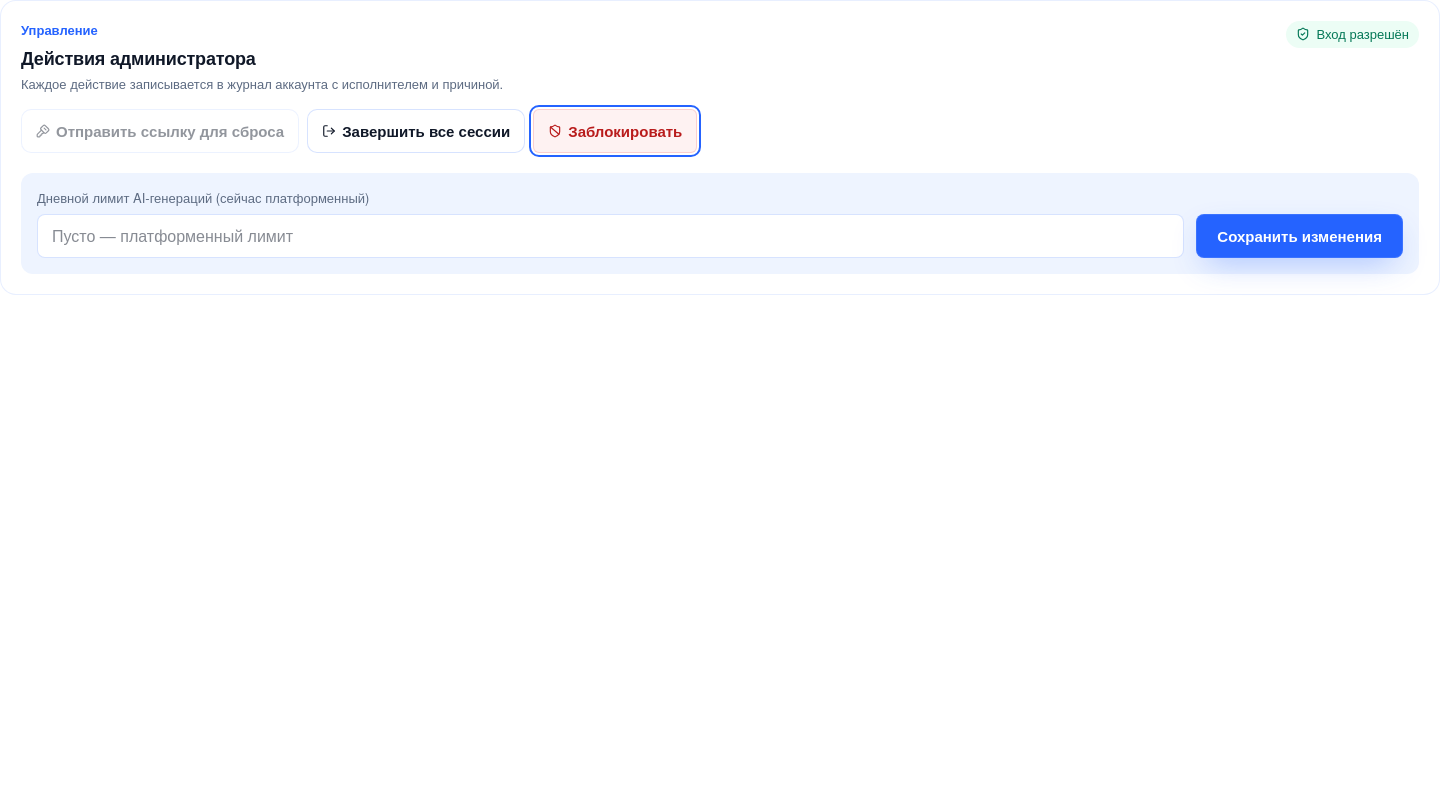
Test: contains block-dialog keyboard focus and lets Escape cancel before a destructive action
The image size is (1440, 810).
Click the button "Заблокировать".
click(615, 131)  # box [533,109,697,153]
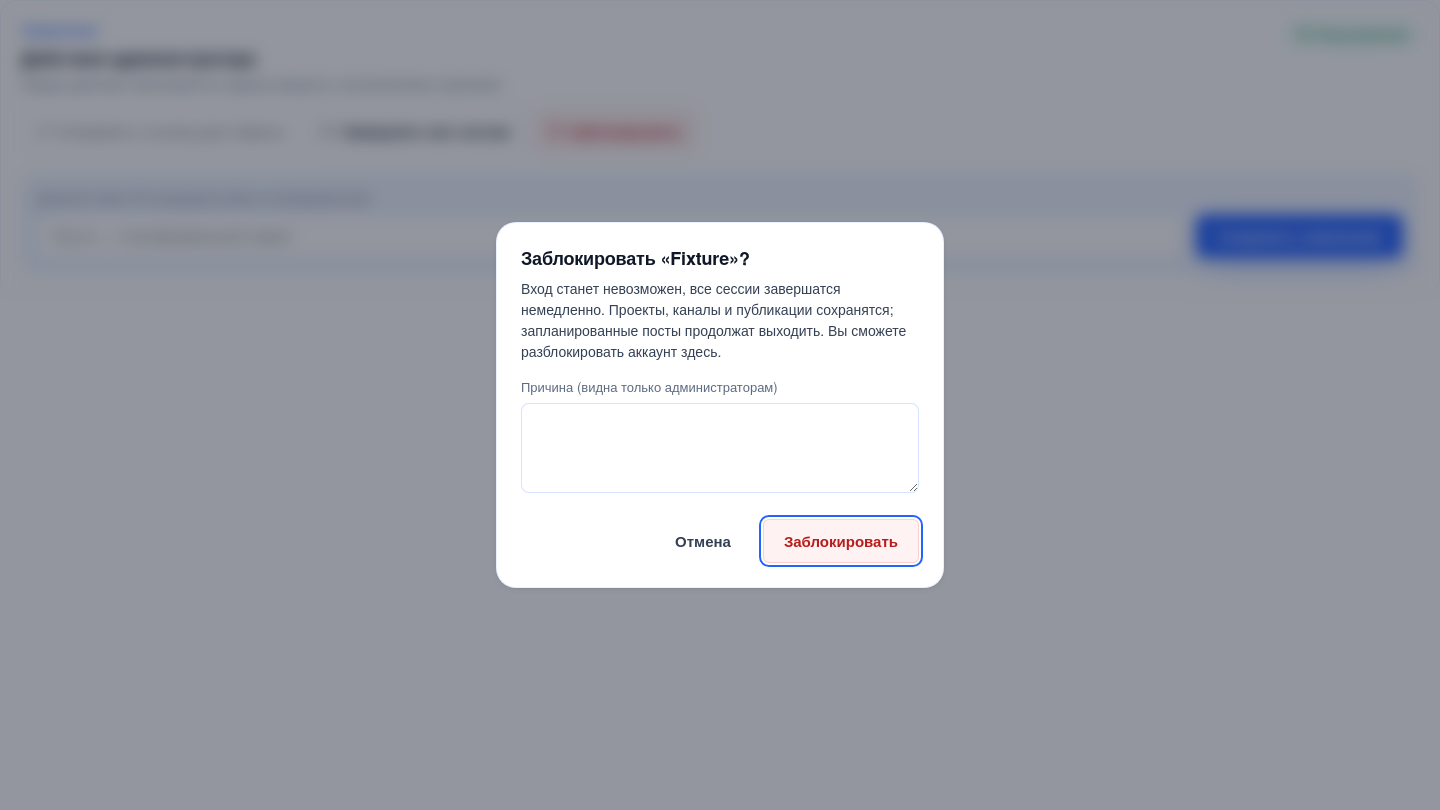
Press Tab in the button "Заблокировать", box [763,519,919,563]
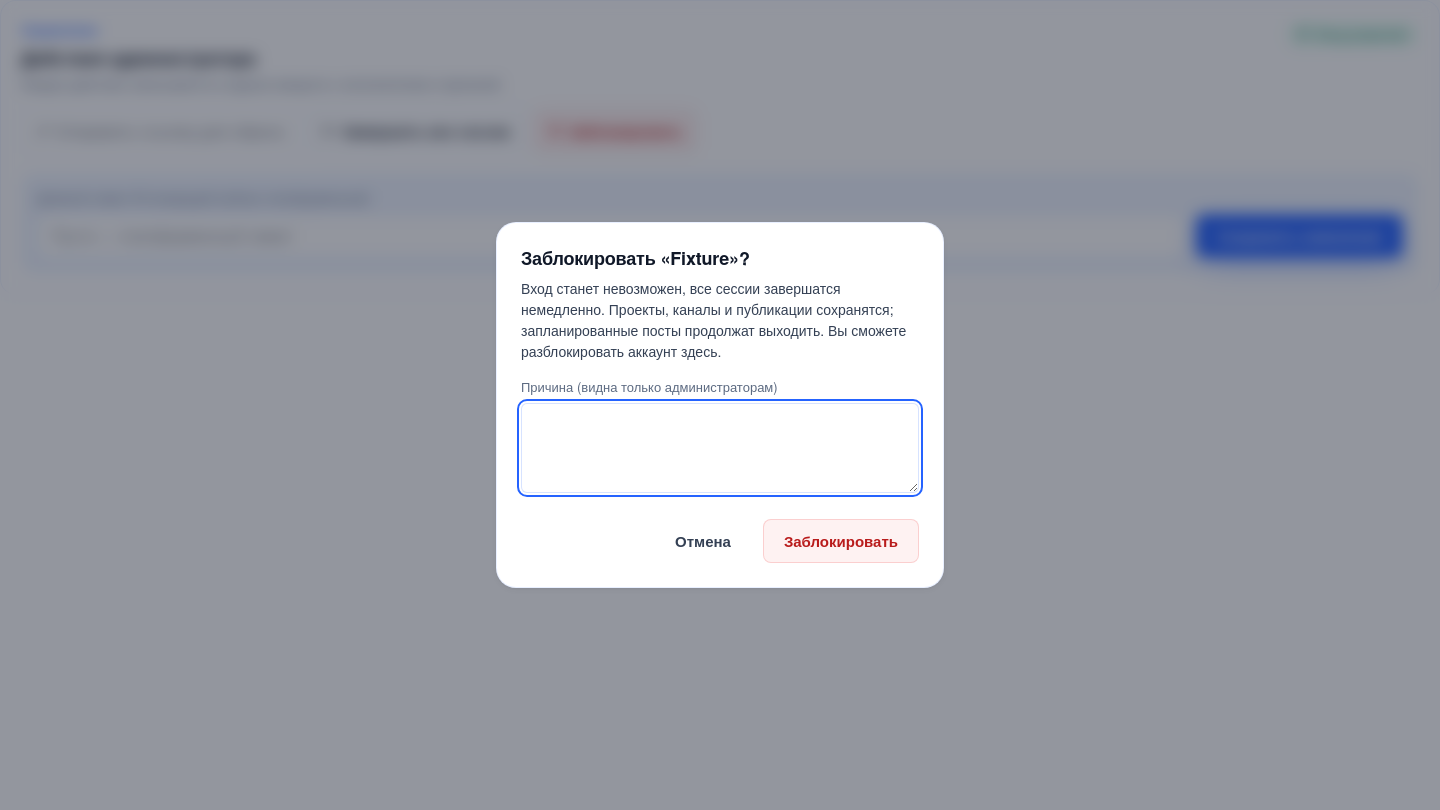
Press Escape in the dialog, box [496,222,944,588]
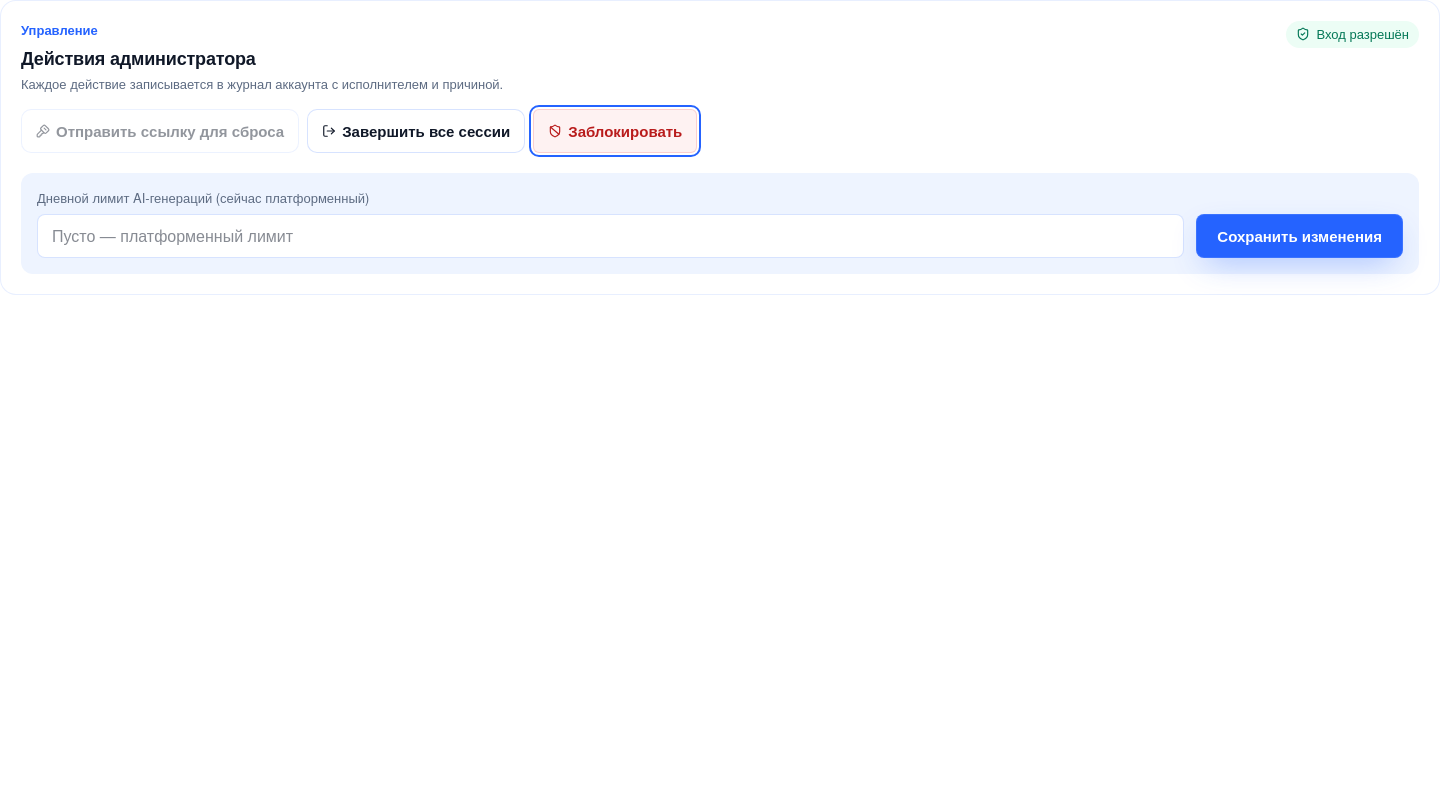
Now the dialog is gone
